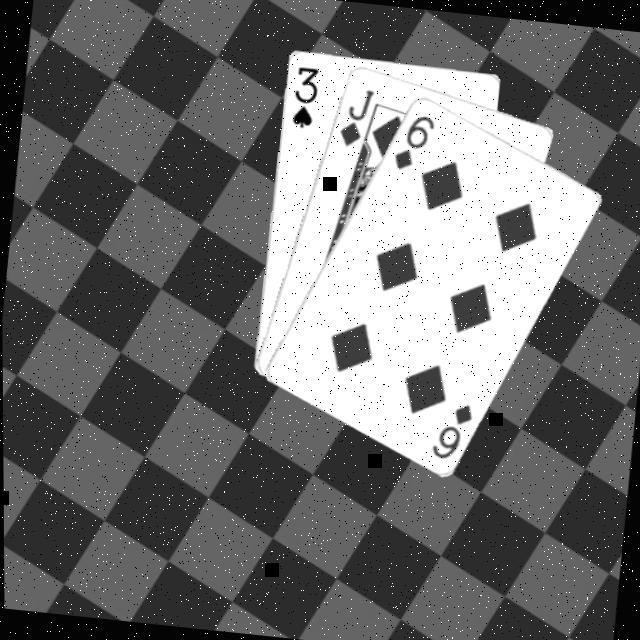3S: (287, 61, 322, 130)
6D: (389, 108, 438, 175), (427, 396, 476, 463)
JD: (333, 81, 378, 150)
